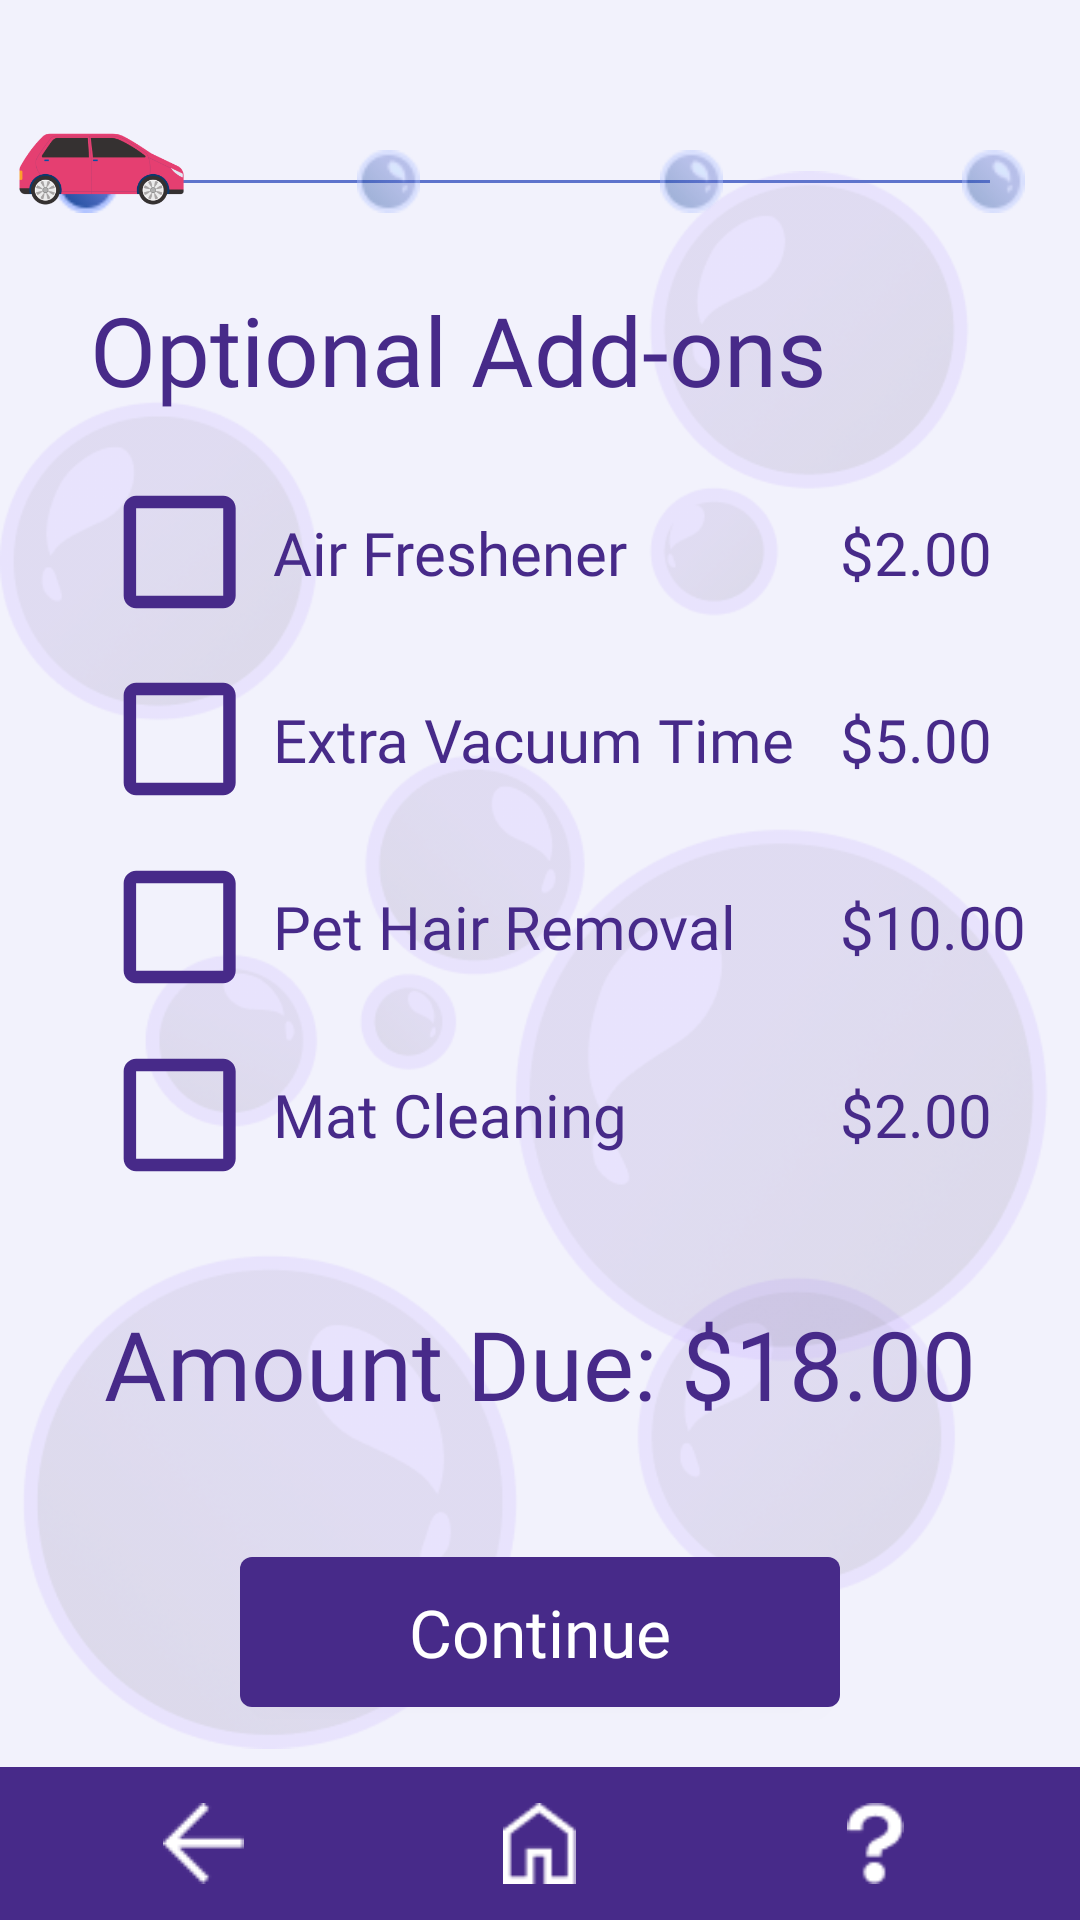

Where icons sit on this 1080x1920 app screen, as (x1, y1, x2, y2):
Back Button: (163, 1803, 244, 1884)
Help Button: (847, 1803, 904, 1884)
Home Button: (503, 1803, 576, 1884)
incomplete bubble: (357, 150, 420, 213), (660, 150, 723, 213), (962, 150, 1025, 213)
